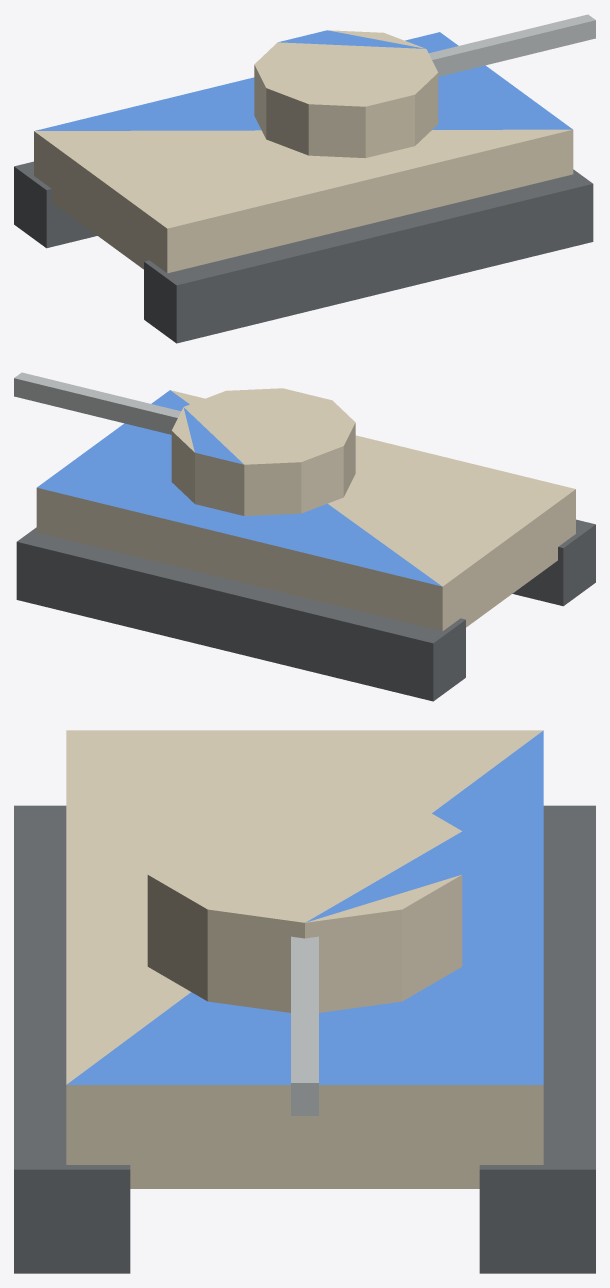
The model's file is meridian_light_tank.glb.
3 views of the same model, one above another, from view 1: azimuth 30°, elevation 25°; view 2: azimuth 150°, elevation 25°; view 3: azimuth 270°, elevation 25° (orthographic). The views are drawn at different scales.
Parts seen in each view (by area): view 1: hull, turret, barrel; view 2: hull, turret, barrel; view 3: hull, turret, barrel.
Boxes of the visible parts, x1,y1,x2,y2 form: hull: (14, 32, 593, 343); turret: (254, 30, 438, 158); barrel: (429, 14, 595, 76); hull: (16, 390, 595, 701); turret: (171, 388, 355, 516); barrel: (14, 372, 180, 434); hull: (14, 730, 595, 1273); turret: (147, 783, 462, 1012); barrel: (291, 936, 318, 1115).
Size of the model in its own units: 5.12 by 1.52 by 2.9.
